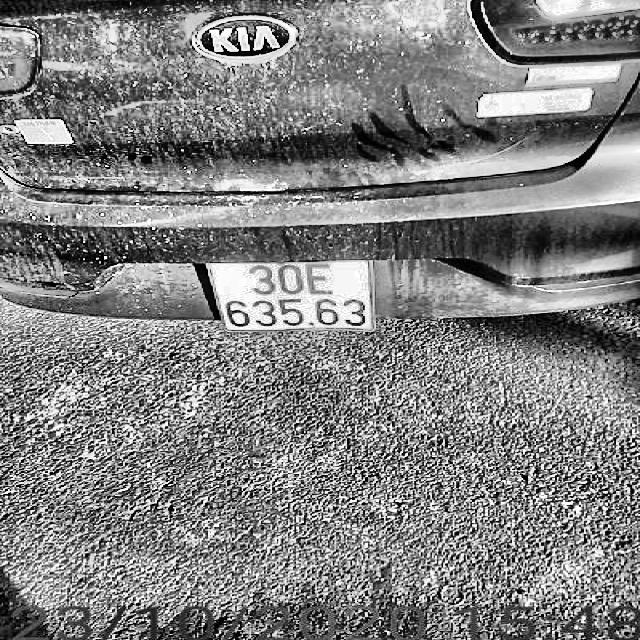plate: (194, 248, 390, 338)
